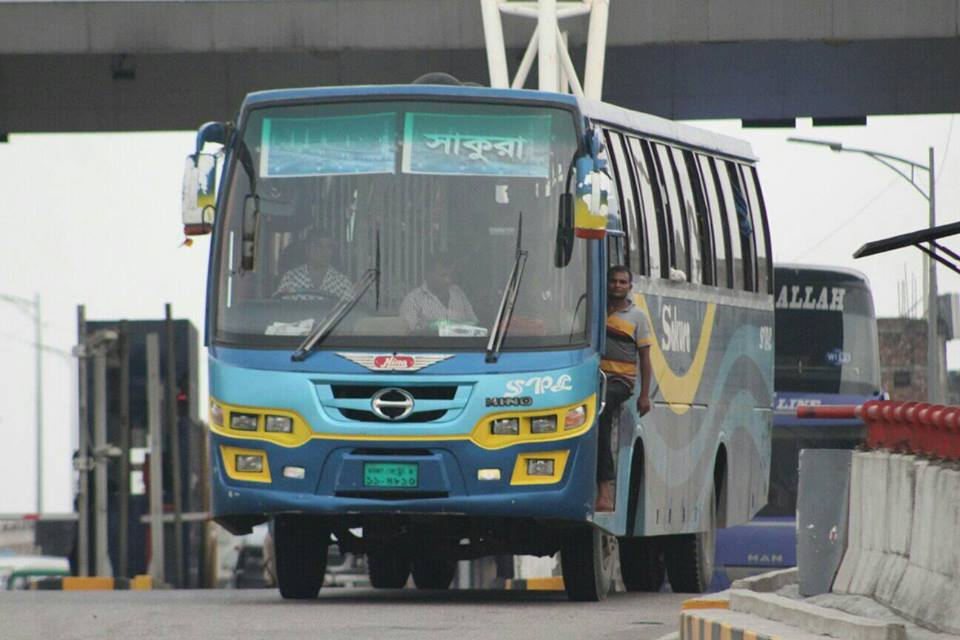bus: (191, 79, 785, 604), (766, 256, 889, 573)
